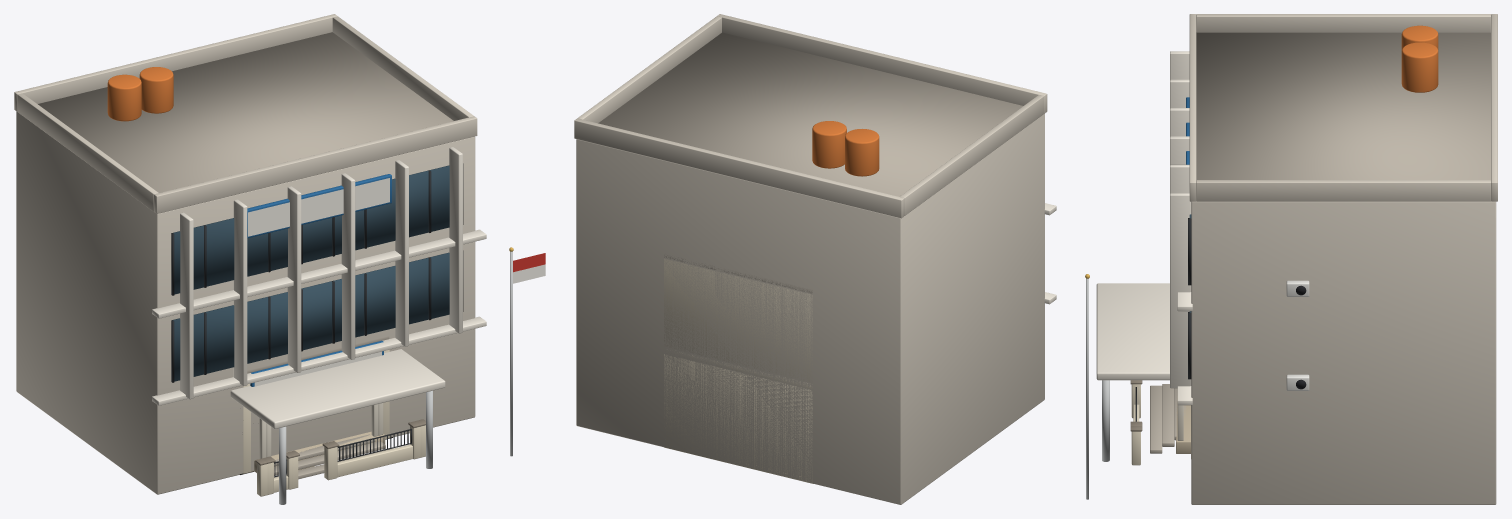
The model's file is bangunan.glb.
The picture shows the model from 3 angles, left to right: view 1: azimuth 30°, elevation 25°; view 2: azimuth 150°, elevation 25°; view 3: azimuth 270°, elevation 25°; orthographic projection. The views are drawn at different scales.
Parts seen in each view (by area): view 1: Badan, AtapDalam, Kanopi, KacaLantai1, PapanNama.001, Toren-2.2, Gagang0.55, Dinding, Dinding.001, TiangBendera, PapanRangka.001, DindingBelakang (+2 smaller); view 2: Badan, AtapDalam, DindingBelakang, Toren-2.2; view 3: Badan, AtapDalam, Kanopi, Toren-2.2, TiangBendera, Kantor4.5AC, Gagang0.55, Tangga.
Part boxes in pixels (box(x1,y1,x2,y2)): Badan: box(14, 14, 477, 494); AtapDalam: box(38, 32, 453, 479); Kanopi: box(152, 147, 486, 428); KacaLantai1: box(172, 165, 449, 381); PapanNama.001: box(248, 178, 389, 236); Toren-2.2: box(107, 67, 173, 121); Gagang0.55: box(171, 163, 463, 382); Dinding: box(257, 425, 425, 496); Dinding.001: box(267, 426, 420, 494); TiangBendera: box(279, 251, 512, 504); PapanRangka.001: box(247, 174, 391, 238); DindingBelakang: box(243, 349, 389, 473); Badan: box(574, 14, 1047, 504); AtapDalam: box(598, 32, 1022, 196); DindingBelakang: box(664, 258, 813, 483); Toren-2.2: box(812, 121, 879, 176); Badan: box(1189, 14, 1497, 504); AtapDalam: box(1150, 32, 1490, 453); Kanopi: box(1096, 51, 1192, 405); Toren-2.2: box(1401, 25, 1438, 92); TiangBendera: box(1086, 278, 1109, 499); Kantor4.5AC: box(1286, 280, 1309, 390); Gagang0.55: box(1188, 218, 1191, 379); Tangga: box(1176, 406, 1190, 453).
Size of the model in its own units: 14.1 by 12.43 by 13.53.
